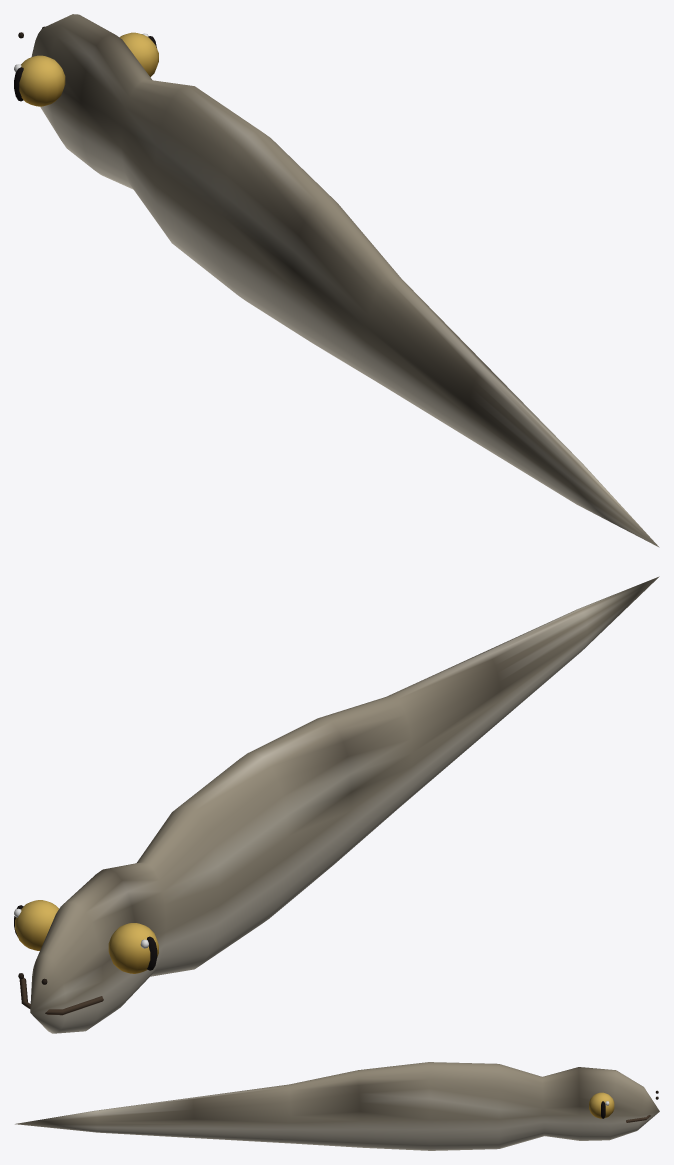
The model's file is Yamori.fbx.
The picture shows the model from 3 angles, top to bottom: view 1: azimuth 30°, elevation 25°; view 2: azimuth 150°, elevation 25°; view 3: azimuth 270°, elevation 25°; orthographic projection. The views are drawn at different scales.
Parts seen in each view (by area): view 1: Yamori; view 2: Yamori; view 3: Yamori.
Part boxes in pixels (left/top/right/bottom): Yamori: left=14, top=14, right=659, bottom=547; Yamori: left=14, top=576, right=659, bottom=1033; Yamori: left=15, top=1062, right=659, bottom=1150.
Size of the model in its own units: 0.6085 by 0.6959 by 4.66.
